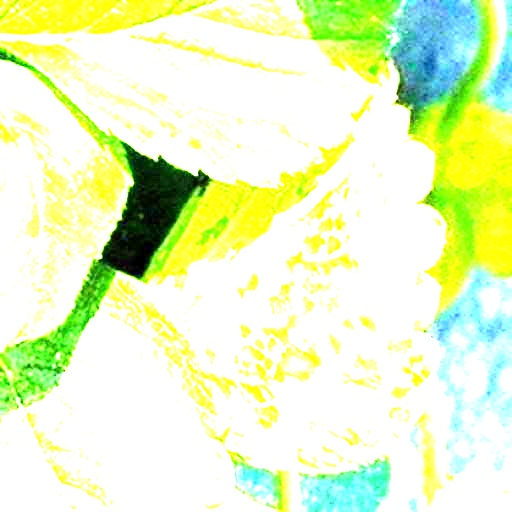Angular Leafspot: (137, 58, 451, 476)
